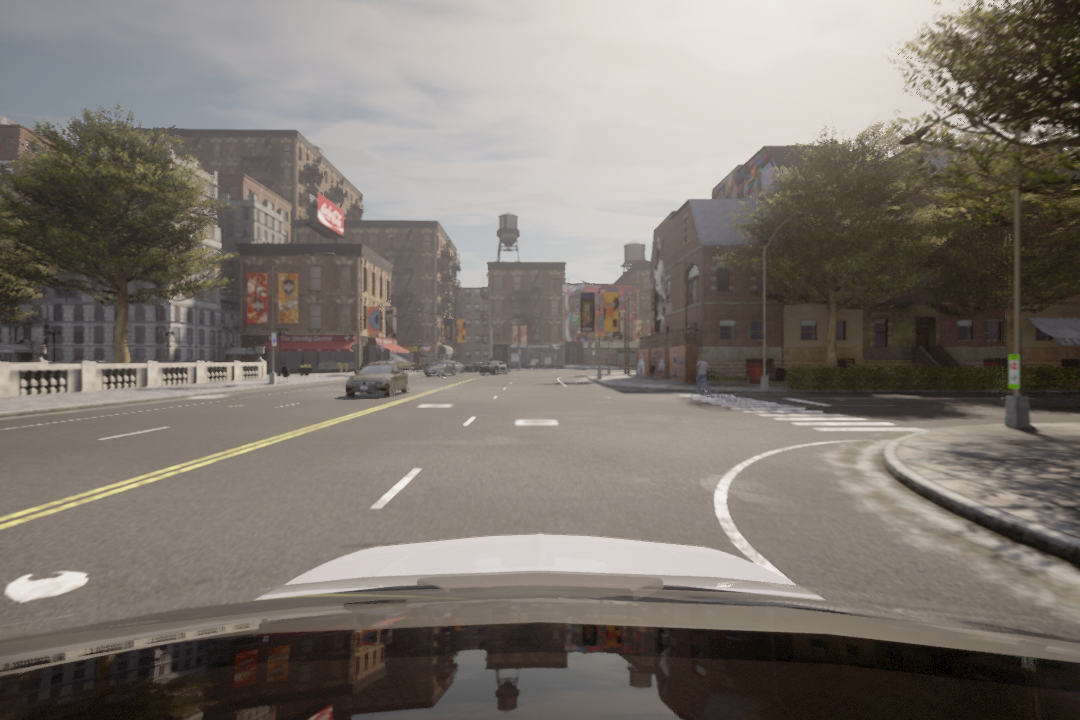walkside: (681, 390, 894, 438)
